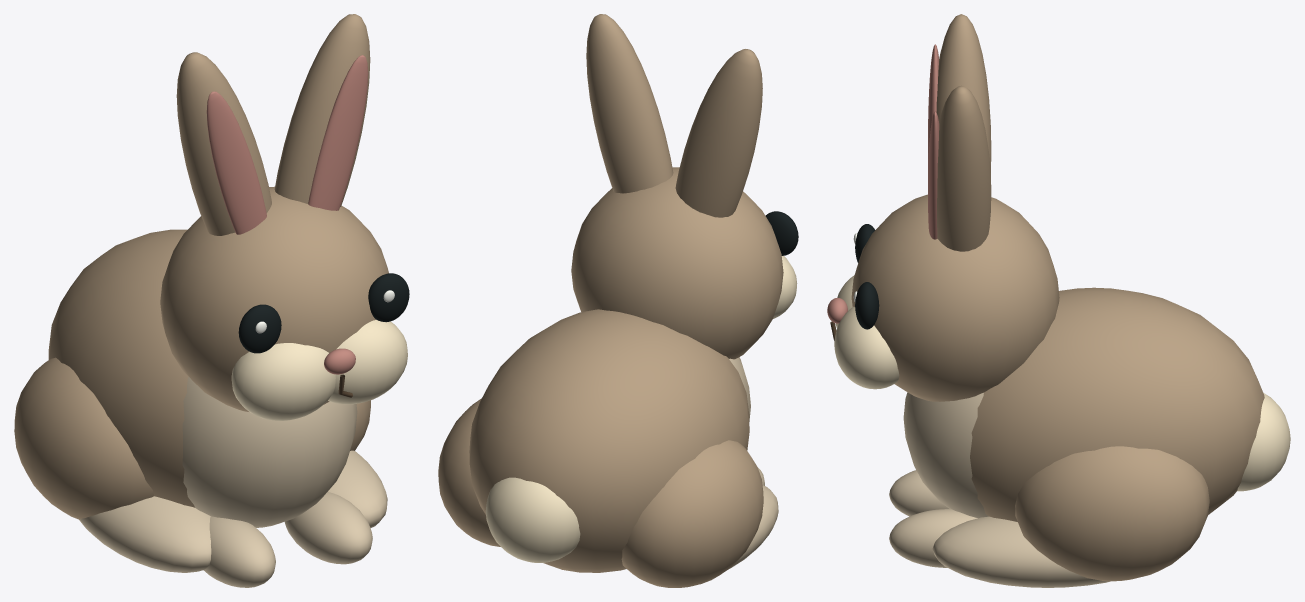
File: konijn_rustend.glb
3 renders of one model, left to right at view 1: azimuth 30°, elevation 25°; view 2: azimuth 150°, elevation 25°; view 3: azimuth 270°, elevation 25°, orthographic. The views are drawn at different scales.
Parts seen in each view (by area): view 1: Rabbit_head.001, Rabbit_body.001, Rabbit_chest, Rabbit_hind_leg.002, Rabbit_ear.003, Rabbit_ear.002, Long_hind_paw.002, Rabbit_cheek.002, Rabbit_pink_ear.003, Rabbit_pink_ear.002, Rabbit_cheek.003, Tucked_front_paw.001 (+6 smaller); view 2: Rabbit_body.001, Rabbit_head.001, Rabbit_hind_leg.002, Rabbit_ear.003, Rabbit_ear.002, Rabbit_tail.001, Rabbit_hind_leg.003, Long_hind_paw.002, Eye.006, Rabbit_cheek.002; view 3: Rabbit_body.001, Rabbit_head.001, Rabbit_hind_leg.003, Rabbit_ear.003, Rabbit_chest, Long_hind_paw.003, Rabbit_ear.002, Rabbit_cheek.003, Rabbit_tail.001, Tucked_front_paw.001, Tucked_front_paw, Rabbit_pink_ear.003 (+2 smaller).
Boxes of the visible parts, left/top/right/bottom form: Rabbit_head.001: left=160, top=186, right=388, bottom=411; Rabbit_body.001: left=48, top=229, right=194, bottom=507; Rabbit_chest: left=182, top=377, right=357, bottom=527; Rabbit_hind_leg.002: left=14, top=357, right=153, bottom=519; Rabbit_ear.003: left=274, top=14, right=370, bottom=206; Rabbit_ear.002: left=176, top=52, right=271, bottom=235; Long_hind_paw.002: left=79, top=496, right=211, bottom=572; Rabbit_cheek.002: left=231, top=343, right=335, bottom=420; Rabbit_pink_ear.003: left=308, top=55, right=368, bottom=210; Rabbit_pink_ear.002: left=206, top=91, right=266, bottom=234; Rabbit_cheek.003: left=328, top=319, right=407, bottom=404; Tucked_front_paw.001: left=284, top=492, right=372, bottom=564; Rabbit_body.001: left=469, top=309, right=749, bottom=572; Rabbit_head.001: left=571, top=167, right=783, bottom=359; Rabbit_hind_leg.002: left=621, top=440, right=763, bottom=587; Rabbit_ear.003: left=586, top=14, right=673, bottom=193; Rabbit_ear.002: left=675, top=49, right=762, bottom=217; Rabbit_tail.001: left=485, top=477, right=580, bottom=562; Rabbit_hind_leg.003: left=438, top=398, right=500, bottom=546; Long_hind_paw.002: left=729, top=485, right=778, bottom=568; Eye.006: left=765, top=211, right=798, bottom=255; Rabbit_cheek.002: left=773, top=255, right=797, bottom=318; Rabbit_body.001: left=970, top=287, right=1264, bottom=521; Rabbit_head.001: left=851, top=194, right=1059, bottom=401; Rabbit_hind_leg.003: left=1015, top=446, right=1209, bottom=581; Rabbit_ear.003: left=937, top=85, right=991, bottom=251; Rabbit_chest: left=903, top=392, right=988, bottom=518; Long_hind_paw.003: left=932, top=516, right=1110, bottom=587; Rabbit_ear.002: left=936, top=14, right=991, bottom=172; Rabbit_cheek.003: left=834, top=306, right=899, bottom=389; Rabbit_tail.001: left=1237, top=393, right=1290, bottom=491; Tucked_front_paw.001: left=889, top=509, right=977, bottom=567; Tucked_front_paw: left=889, top=470, right=949, bottom=516; Rabbit_pink_ear.003: left=928, top=111, right=939, bottom=239.
Bounding box in the file's own units: 0.6 × 0.9407 × 0.802.
